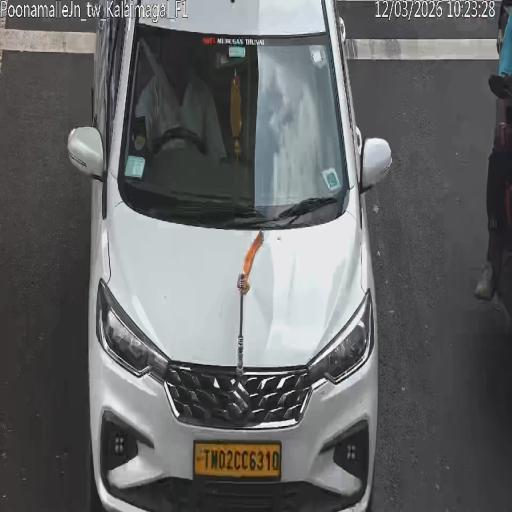person_with_seatbelt: (138, 36, 186, 141)
